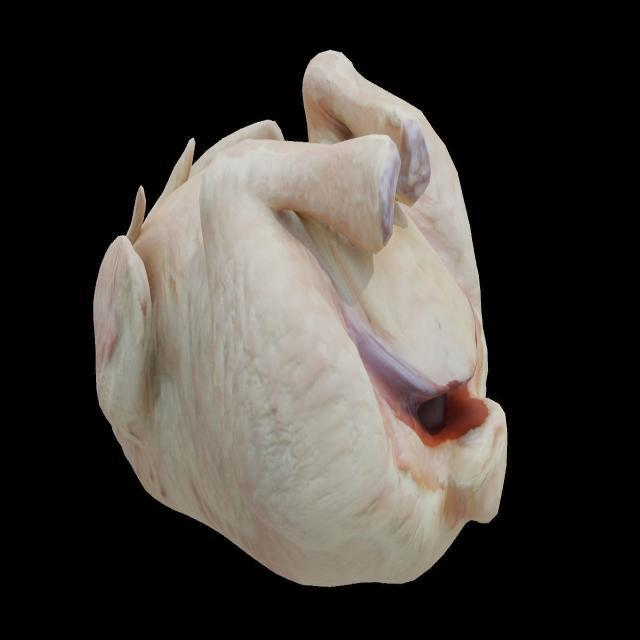Chicken: (82, 38, 522, 592)
